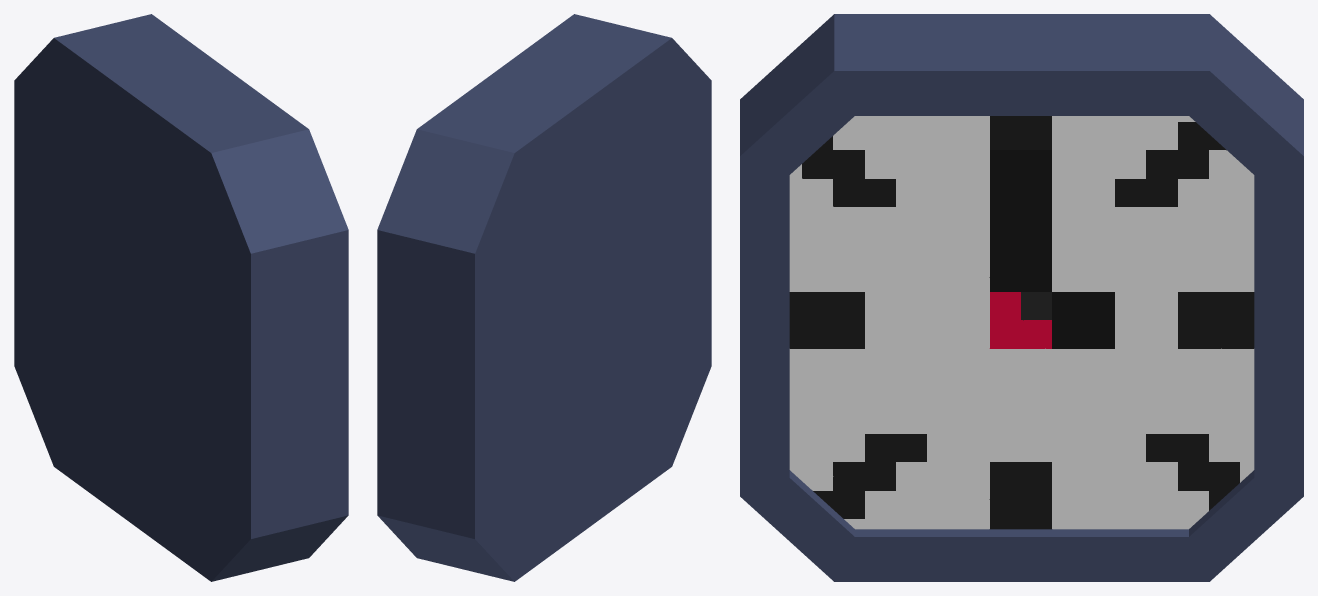
File: clock.fbx
The picture shows the model from 3 angles, left to right: view 1: azimuth 30°, elevation 25°; view 2: azimuth 150°, elevation 25°; view 3: azimuth 270°, elevation 25°; orthographic projection. The views are drawn at different scales.
Parts seen in each view (by area): view 1: clock; view 2: clock; view 3: clock.
Part boxes in pixels (x1=…): clock: x1=14, y1=14, x2=348, y2=581; clock: x1=377, y1=14, x2=711, y2=581; clock: x1=740, y1=14, x2=1303, y2=581.
Size of the model in its own units: 0.8622 by 3.61 by 3.61.
